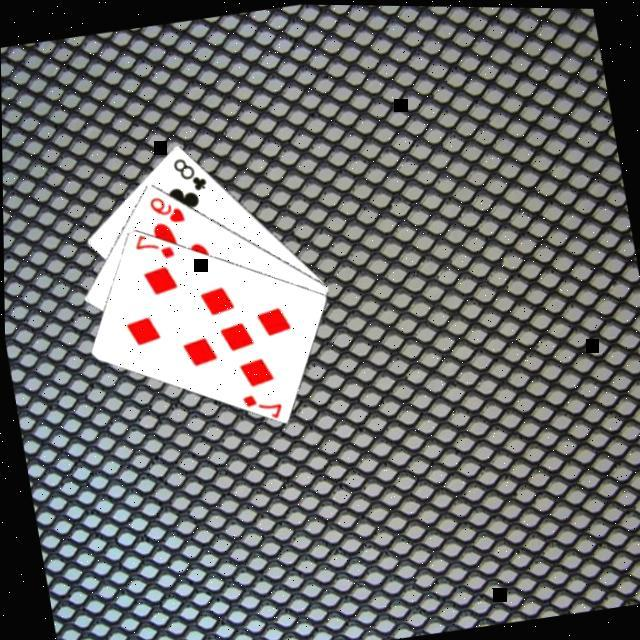7D: (128, 228, 176, 267), (235, 386, 282, 424)
8C: (166, 152, 209, 196)
9H: (143, 190, 186, 231)
